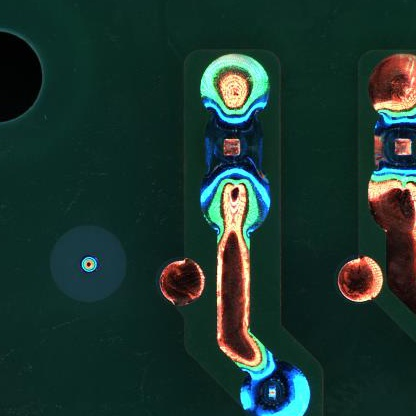spot: (199, 109, 265, 184), (239, 356, 308, 416), (369, 109, 416, 185)
